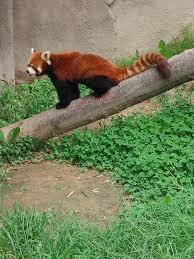redPanda: (22, 33, 172, 108)
